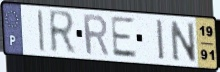E: (109, 15, 139, 59)
I: (155, 18, 166, 63), (36, 9, 46, 54)
N: (169, 19, 198, 63)
R: (47, 8, 77, 56), (81, 14, 111, 58)
